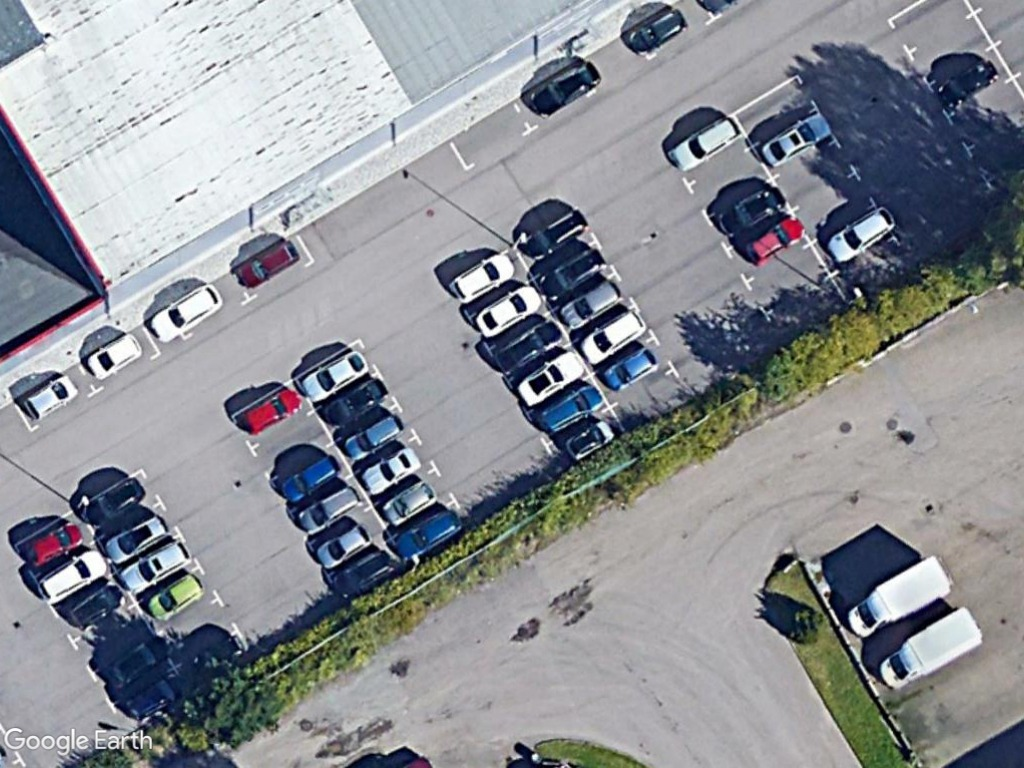car: (34, 543, 114, 610), (668, 112, 747, 178), (822, 201, 899, 267), (148, 280, 225, 345), (527, 58, 604, 122), (514, 343, 589, 407), (761, 106, 835, 170), (471, 279, 547, 339), (516, 203, 589, 265), (121, 531, 190, 596), (714, 180, 787, 241), (537, 241, 607, 304), (393, 506, 467, 565), (581, 305, 650, 367), (533, 375, 605, 434), (105, 506, 174, 567), (233, 237, 306, 294), (299, 346, 370, 404), (276, 448, 342, 507), (742, 212, 809, 270), (557, 274, 624, 332), (448, 248, 517, 304), (357, 442, 424, 498), (341, 406, 407, 462), (622, 6, 689, 59), (300, 479, 363, 535), (323, 375, 388, 428), (84, 329, 148, 382), (241, 385, 304, 438), (377, 473, 437, 528), (595, 345, 662, 394), (18, 520, 87, 567), (146, 569, 206, 623), (21, 372, 82, 423), (315, 520, 370, 571)
truck: (842, 547, 961, 642), (870, 605, 988, 694)
